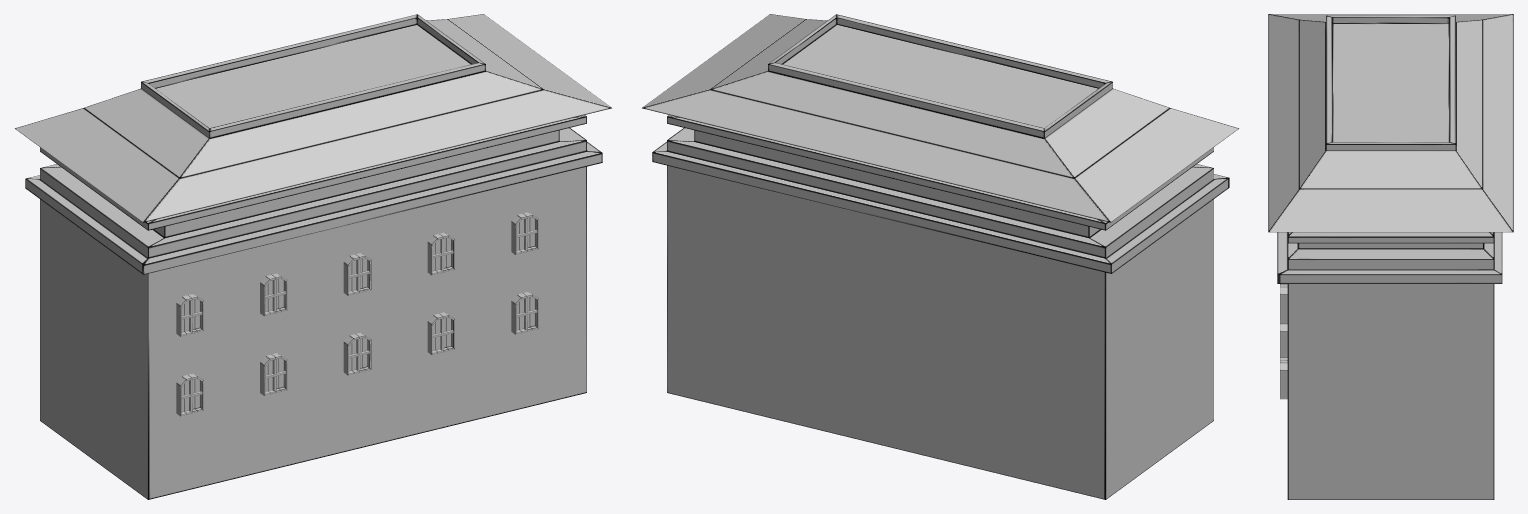
File: Modelo_Predio2.fbx
3 renders of one model, left to right at view 1: azimuth 30°, elevation 25°; view 2: azimuth 150°, elevation 25°; view 3: azimuth 270°, elevation 25°, orthographic. The views are drawn at different scales.
Visible parts, largest first — view 1: Predio_Variacao_3; view 2: Predio_Variacao_3; view 3: Predio_Variacao_3.
Part boxes in pixels (x1,y1,x2,y2): Predio_Variacao_3: [15, 14, 611, 499]; Predio_Variacao_3: [642, 14, 1238, 499]; Predio_Variacao_3: [1268, 14, 1513, 499].
Size of the model in its own units: 6165 by 4190 by 2927.
